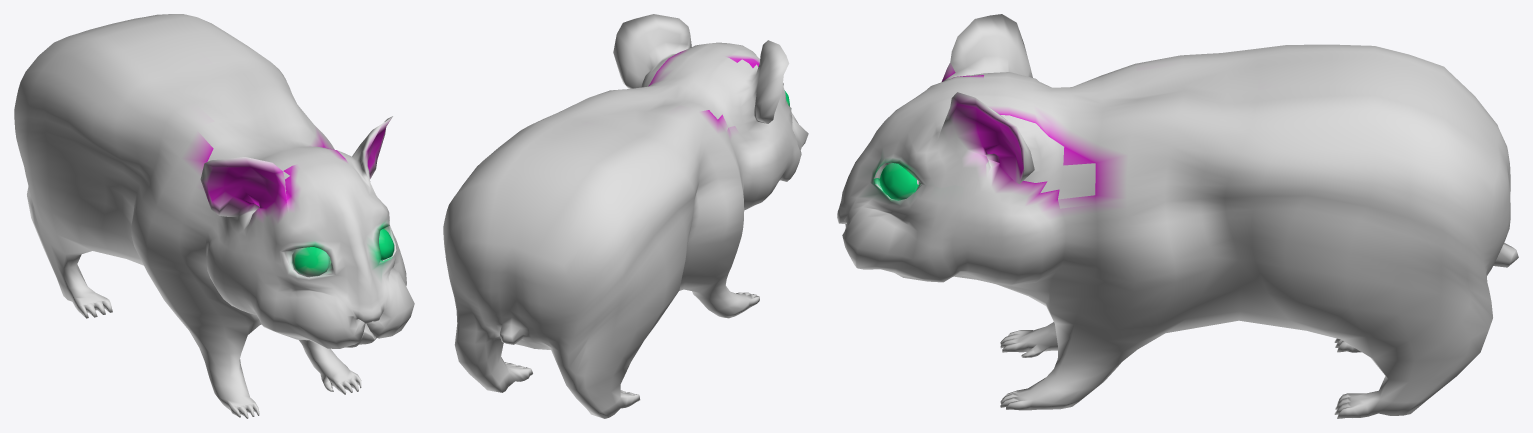
File: Cult_Gerbil_2.fbx
3 views of the same model, side by side, from view 1: azimuth 30°, elevation 25°; view 2: azimuth 150°, elevation 25°; view 3: azimuth 270°, elevation 25° (orthographic). The views are drawn at different scales.
Parts seen in each view (by area): view 1: Cube.004_Cube.007; view 2: Cube.004_Cube.007; view 3: Cube.004_Cube.007.
Part boxes in pixels (x1,y1,x2,y2): Cube.004_Cube.007: [14, 14, 414, 418]; Cube.004_Cube.007: [443, 14, 808, 418]; Cube.004_Cube.007: [837, 14, 1518, 418].
Size of the model in its own units: 414 by 519 by 998.
